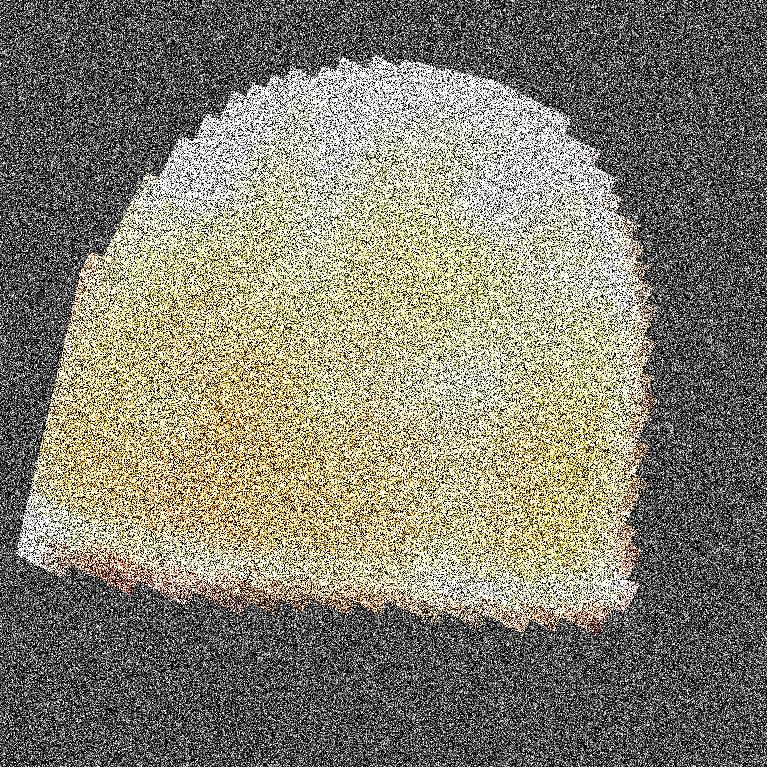Capacete: (199, 0, 545, 766)
